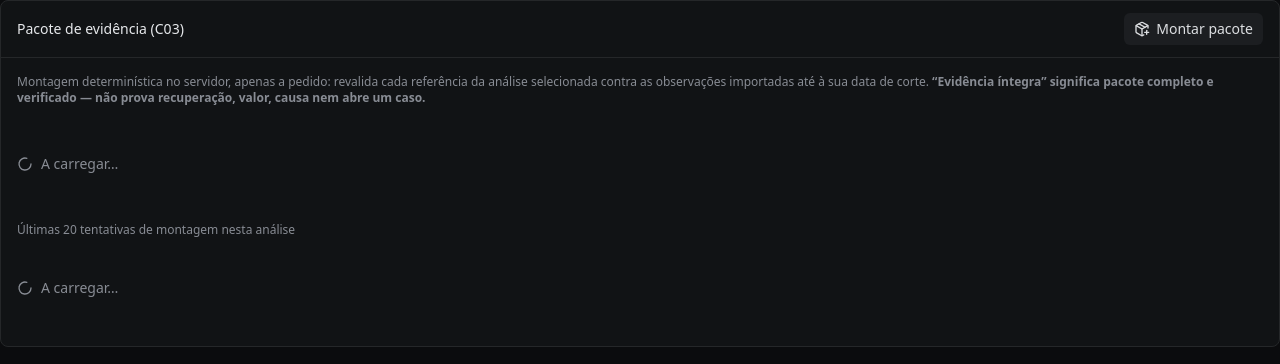
Scenario: C03 pending state belongs to a context generation › new operation after changing tenant keeps its own target and pending state
Earlier steps of the test are not shown.
Later steps or results of the test are not shown.
Click the button "Montar pacote".
click(1194, 29)  # box [1124,13,1263,45]
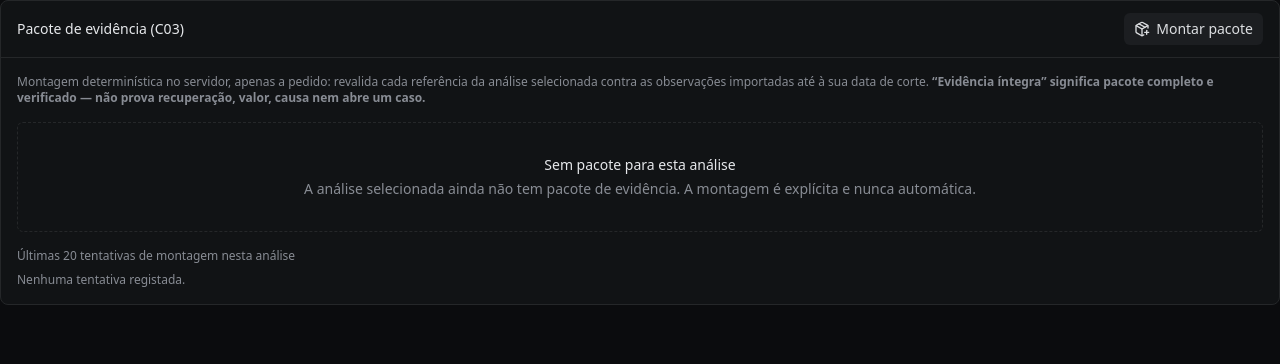
Check: the message "A carregar…" is gone
